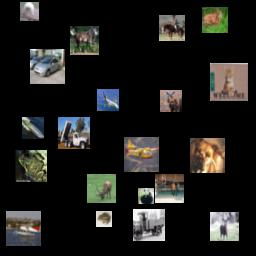airplane: (124, 137, 159, 172), (6, 211, 41, 246), (97, 89, 119, 111)
automobile: (30, 49, 65, 84)
bird: (138, 188, 154, 204)
cat: (210, 63, 248, 101)
deer: (87, 174, 116, 203), (210, 212, 239, 241), (202, 7, 228, 33), (160, 90, 182, 112)
dog: (190, 138, 225, 173), (20, 2, 39, 21)
frog: (15, 150, 47, 182), (96, 211, 112, 227)
ship: (22, 117, 44, 139)
truck: (133, 209, 165, 241), (58, 117, 90, 149)
